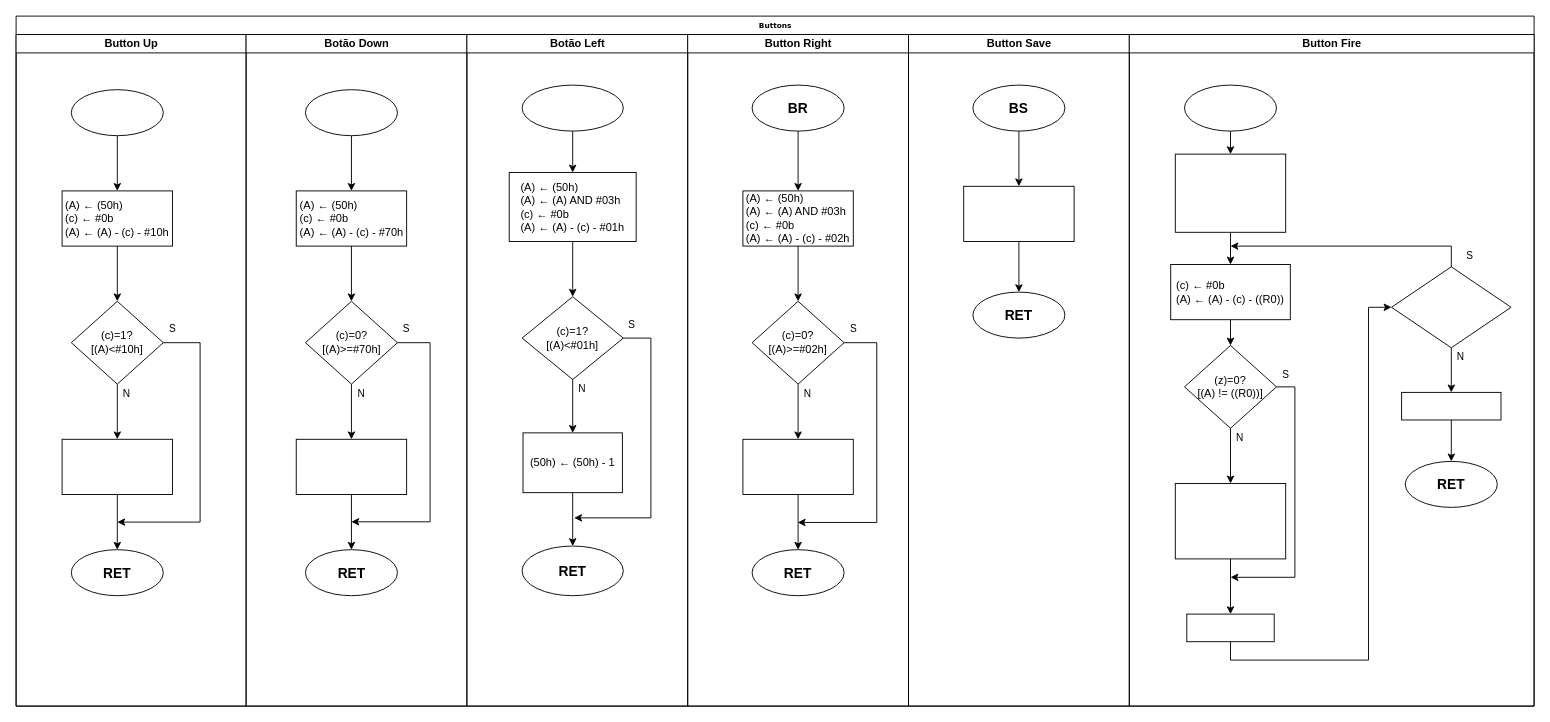
Image size: 1550x722. Some labels were removed from this diagram. Here are the shapes that lost their labels. From the top down, the centre of each, then its label:
At point 116,112: "BU".
At point 351,112: "BD".
At point 572,107: "BL".
At point 1230,107: "BF".
At point 1230,192: "(PSW) ← #00h (A) ← (50h) (R0 ) ← #40h (R1) ← #05h".
At point 1018,213: "(R0) ← (80h) ((R0)) ← (50h) (80h) ← (80h) + 1".
At point 1451,307: "(R1) ← (R1) - 1 (z) != 0?".
At point 1451,405: "(70h) ← (70h) - 1".
At point 116,466: "(A) ← (50h) (A) ← (A) - #10h (50h) ← (A)".
At point 351,466: "(A) ← (50h) (A) ← (A) - #70h (50h) ← (A)".
At point 797,466: "(50h) ← (50h) + 1".
At point 1230,521: "(60h) ← (60h) + 1 (A) ← ((R0)) (ACC.7) ← #01b ((R0)) ← (A) Lcall OLED".
At point 1230,627: "(R0) ← (R0) + 1".
